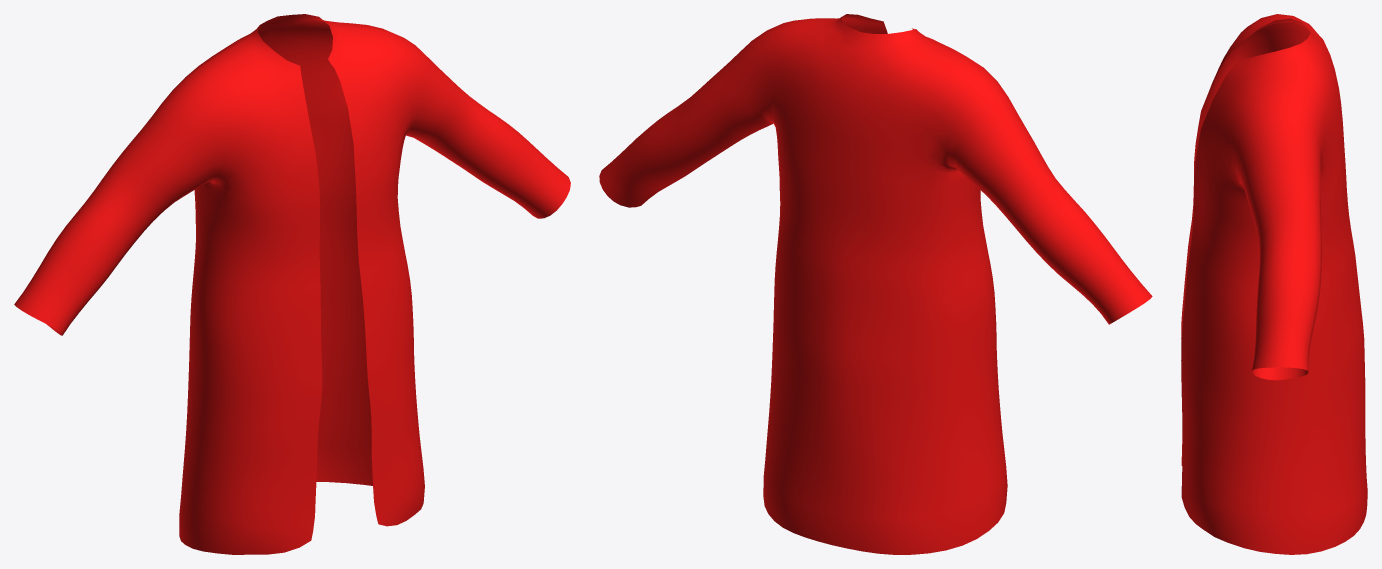
The model's file is HangerOuter.FBX.
3 views of the same model, side by side, from view 1: azimuth 30°, elevation 25°; view 2: azimuth 150°, elevation 25°; view 3: azimuth 270°, elevation 25° (orthographic). The views are drawn at different scales.
Parts seen in each view (by area): view 1: HangerOuter; view 2: HangerOuter; view 3: HangerOuter.
Part boxes in pixels (x1,y1,x2,y2): HangerOuter: (14, 14, 570, 554); HangerOuter: (599, 14, 1152, 554); HangerOuter: (1181, 14, 1367, 554).
Size of the model in its own units: 128 by 111 by 39.24.
